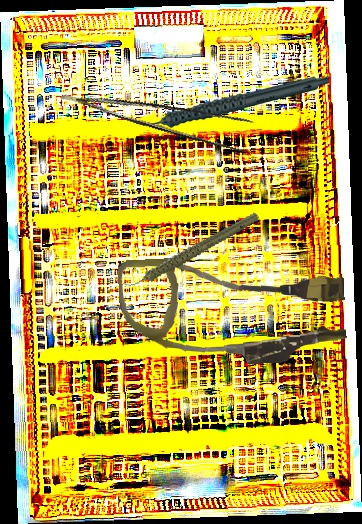Cannula: (117, 249, 348, 371)
Handpiece: (113, 211, 268, 290), (132, 76, 329, 128)
Tissue Forceps: (60, 62, 262, 161)
